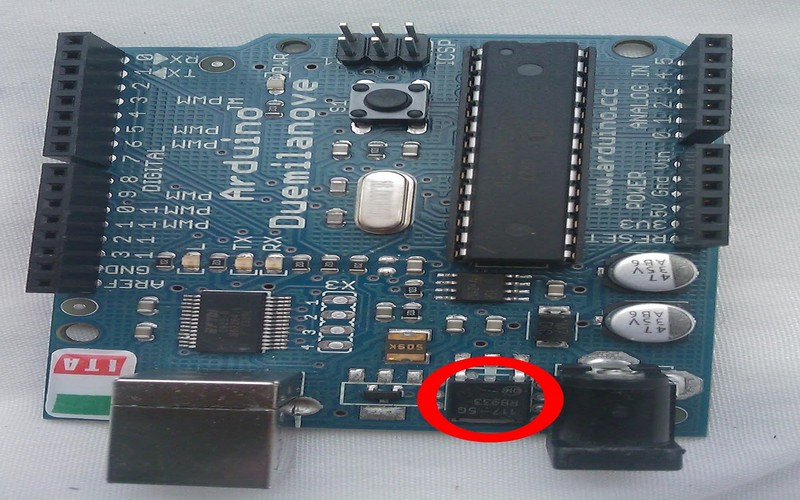Regulator: (14, 15, 751, 492)
